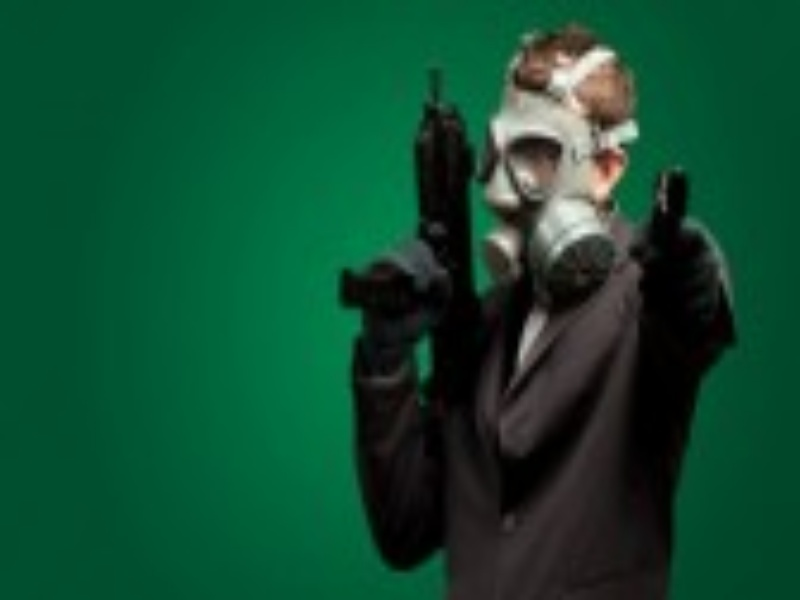gun: (643, 161, 701, 295)
